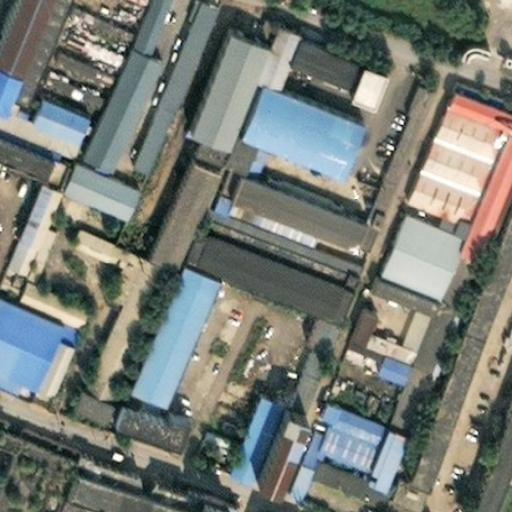building: (167, 217, 334, 312), (180, 193, 349, 282), (216, 166, 364, 257), (114, 249, 205, 395), (393, 324, 471, 483), (352, 66, 429, 222), (226, 75, 349, 169), (74, 248, 155, 390), (63, 34, 146, 165), (449, 167, 512, 331), (8, 413, 133, 487), (445, 120, 512, 256), (175, 19, 248, 137), (458, 359, 512, 511), (135, 145, 204, 259), (342, 271, 427, 356), (370, 201, 454, 287), (47, 460, 181, 512), (425, 81, 512, 152), (59, 220, 135, 297), (0, 426, 60, 512), (395, 162, 470, 226), (0, 107, 70, 168), (411, 128, 484, 186), (238, 406, 290, 486), (298, 449, 380, 499), (217, 397, 266, 476), (291, 413, 362, 467), (52, 151, 124, 203), (98, 395, 174, 444), (5, 271, 80, 318), (378, 356, 423, 427), (403, 296, 448, 364), (121, 92, 163, 161), (279, 24, 347, 66), (335, 332, 403, 374), (309, 391, 372, 436), (350, 416, 395, 477), (245, 17, 286, 82), (20, 85, 74, 132), (137, 470, 190, 511), (35, 64, 96, 99), (187, 421, 231, 467), (332, 48, 373, 95), (368, 472, 416, 512), (46, 41, 105, 73), (55, 21, 114, 51), (123, 0, 159, 44), (215, 127, 257, 164), (293, 305, 330, 344), (60, 377, 101, 412), (436, 250, 465, 293), (34, 482, 69, 512), (278, 450, 304, 489), (459, 36, 491, 61), (294, 338, 318, 368), (286, 362, 309, 387), (174, 0, 191, 14), (454, 503, 478, 512)
